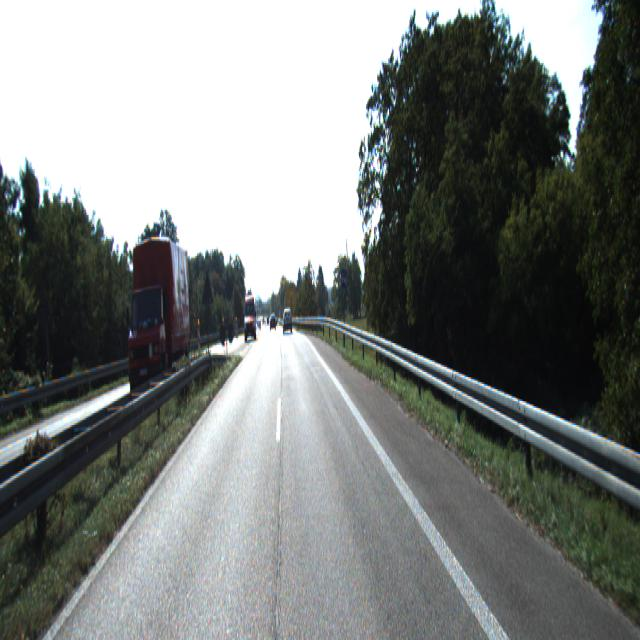Car: (125, 233, 194, 404), (243, 293, 258, 342), (284, 310, 292, 334)
